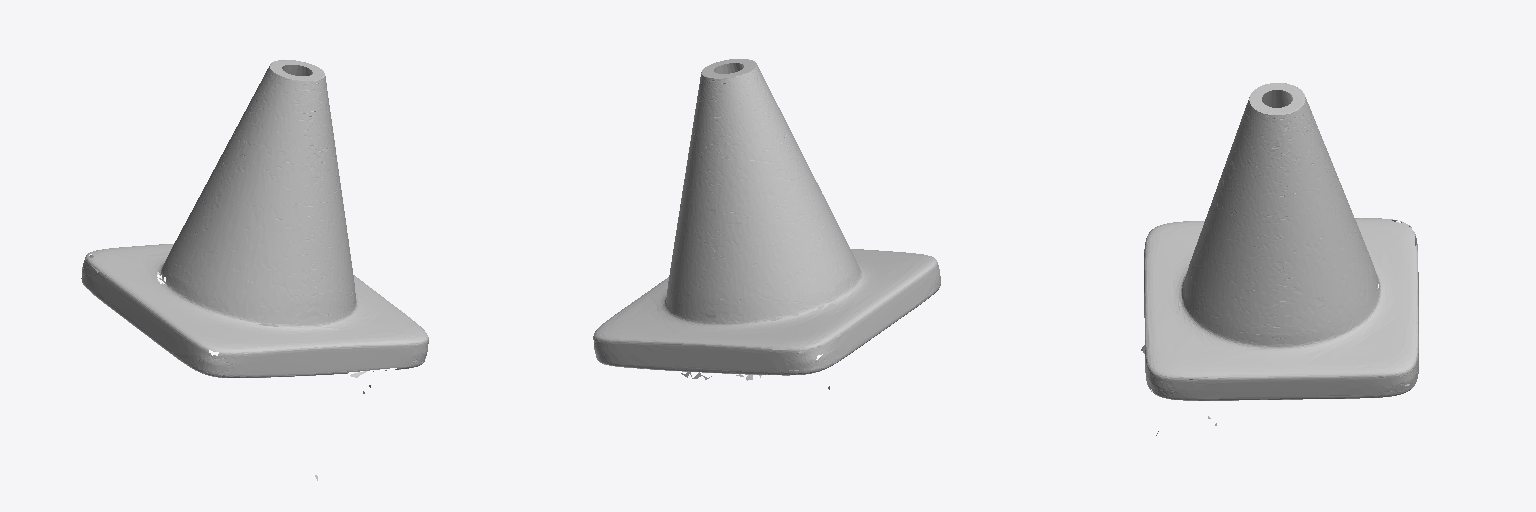
File: conehead.obj
3 views of the same model, side by side, from view 1: azimuth 30°, elevation 25°; view 2: azimuth 150°, elevation 25°; view 3: azimuth 270°, elevation 25° (orthographic).
Visible parts, largest first — view 1: conehead_Conehead_Zombie_without_base.002; view 2: conehead_Conehead_Zombie_without_base.002; view 3: conehead_Conehead_Zombie_without_base.002.
Boxes of the visible parts, <box> form: conehead_Conehead_Zombie_without_base.002: <box>81,60,428,480</box>; conehead_Conehead_Zombie_without_base.002: <box>593,59,940,389</box>; conehead_Conehead_Zombie_without_base.002: <box>1141,83,1418,435</box>.
Bounding box in the file's own units: 30.55 × 44.64 × 31.07.